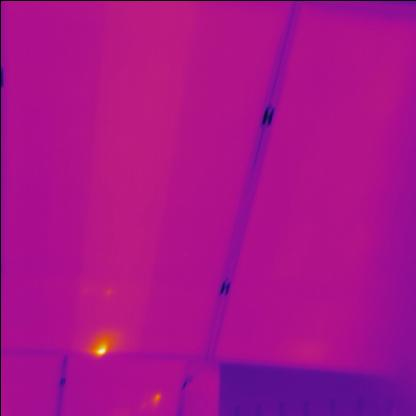hotspot: (86, 336, 112, 360)
